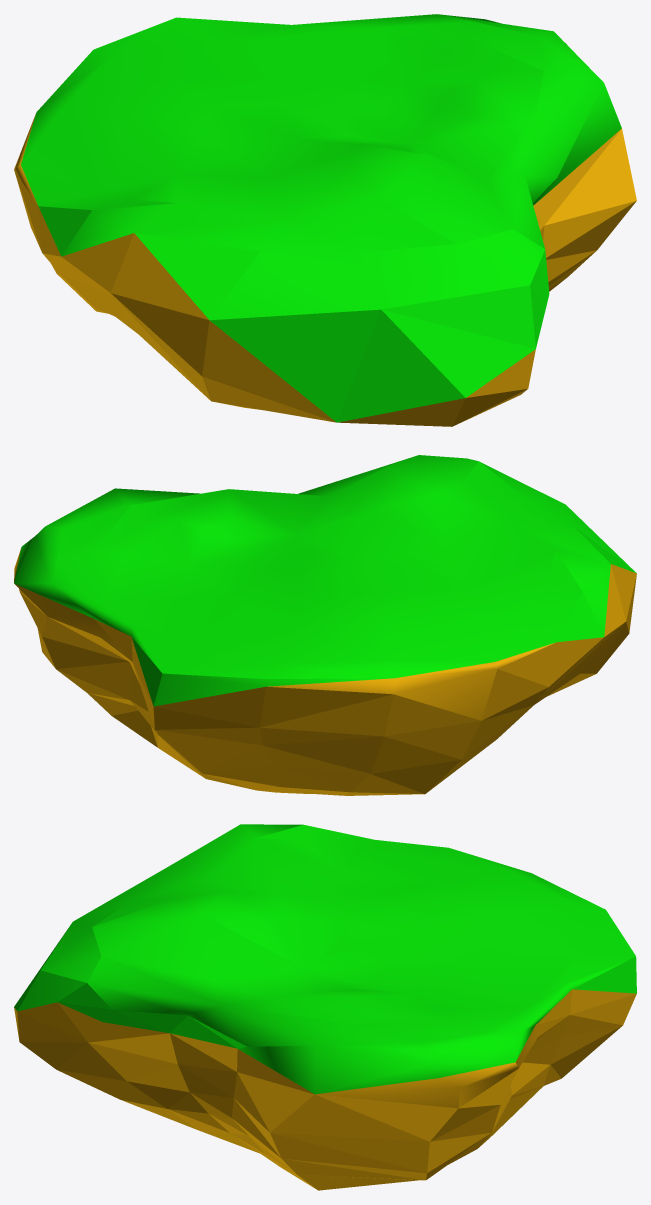
Rendered from LandChunkF.fbx.
3 renders of one model, top to bottom at view 1: azimuth 30°, elevation 25°; view 2: azimuth 150°, elevation 25°; view 3: azimuth 270°, elevation 25°, orthographic. The views are drawn at different scales.
Parts seen in each view (by area): view 1: LandChunkF; view 2: LandChunkF; view 3: LandChunkF.
Boxes of the visible parts, bbox=[...] form: LandChunkF: bbox=[14, 14, 636, 426]; LandChunkF: bbox=[14, 455, 636, 795]; LandChunkF: bbox=[14, 824, 636, 1190].
Bounding box in the file's own units: 118 × 53.26 × 128.
